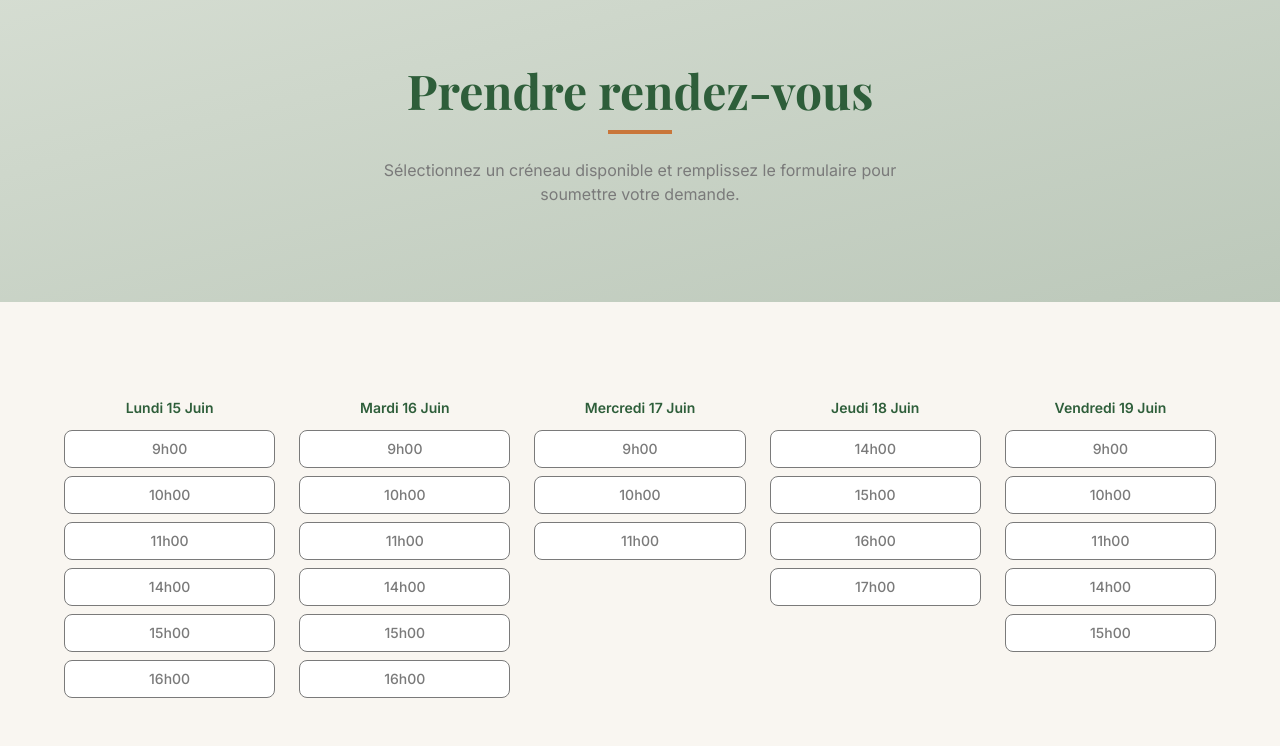
RendezVousPage (public) › allows selecting a slot
This screenshot has width=1280, height=746.
Click the button "9h00" below "Lundi 15 Juin" at (170, 449), box [64, 430, 275, 468]
(page scrolled)
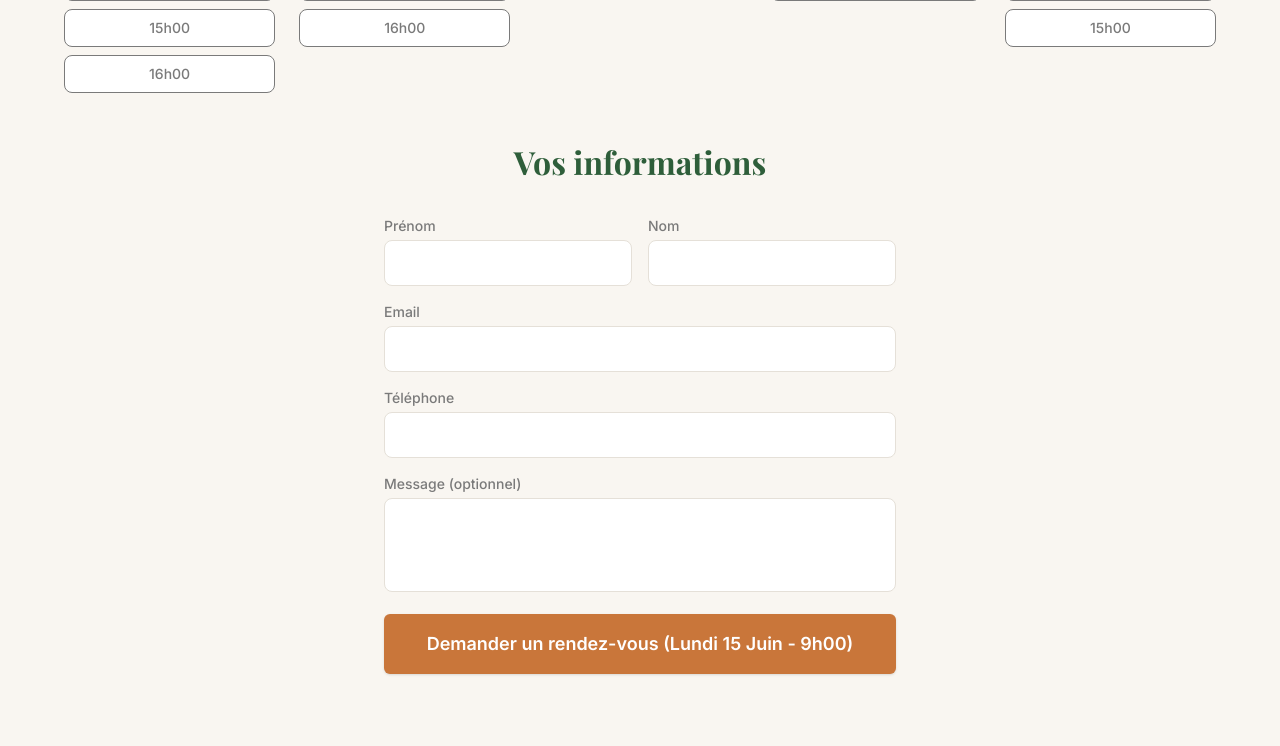
Expected: the button "Demander un rendez-vous (Lundi 15 Juin - 9h00)" is shown, [384, 614, 896, 674]
